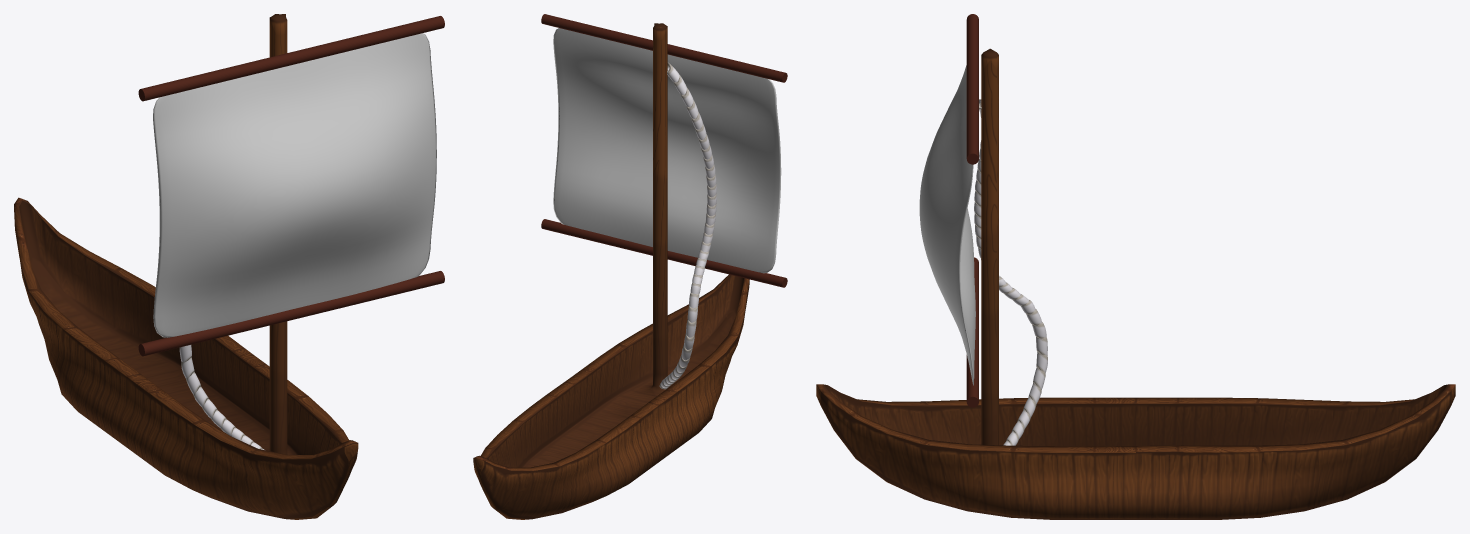
File: boatTest.fbx
3 views of the same model, side by side, from view 1: azimuth 30°, elevation 25°; view 2: azimuth 150°, elevation 25°; view 3: azimuth 270°, elevation 25° (orthographic). The views are drawn at different scales.
Parts seen in each view (by area): view 1: Cube.001, boat, Cylinder.002, Cylinder.001, Torus; view 2: Cube.001, boat, Torus, Cylinder.002, Cylinder.001; view 3: boat, Cube.001, Torus, Cylinder.002, Cylinder.001.
Boxes of the visible parts, x1,y1,x2,y2 form: Cube.001: (153,33,436,337); boat: (14,14,358,519); Cylinder.002: (138,16,444,101); Cylinder.001: (138,271,444,356); Torus: (179,345,264,449); Cube.001: (553,28,781,273); boat: (473,23,749,519); Torus: (659,62,716,389); Cylinder.002: (541,14,787,82); Cylinder.001: (541,219,787,287); boat: (816,48,1455,519); Cube.001: (919,65,975,385); Torus: (974,99,1047,514); Cylinder.002: (966,14,978,164); Cylinder.001: (966,257,978,407).
Size of the model in its own units: 778 by 1191 by 1506.
